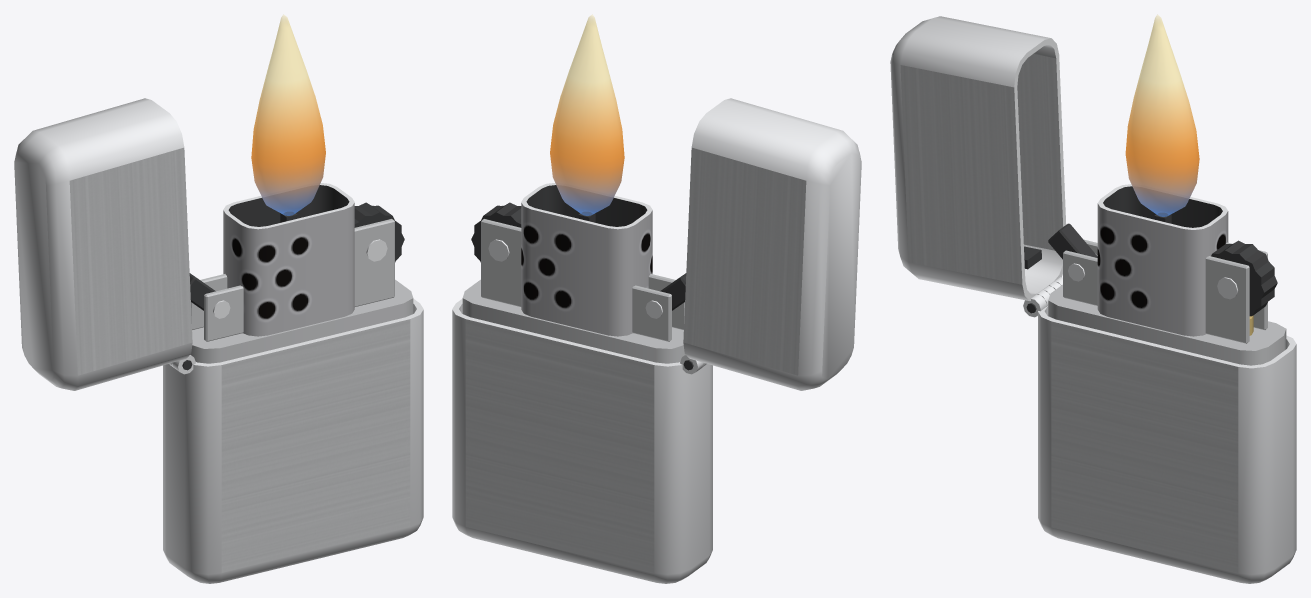
Rendered from encendedor_encendido.glb.
The picture shows the model from 3 angles, left to right: view 1: azimuth 30°, elevation 25°; view 2: azimuth 150°, elevation 25°; view 3: azimuth 330°, elevation 25°; orthographic projection.
Visible parts, largest first — view 1: Cuerpo_Inferior, Tapa_Superior, Inserto_Interior, Llama, Rueda_Chispero; view 2: Cuerpo_Inferior, Tapa_Superior, Inserto_Interior, Llama, Rueda_Chispero; view 3: Cuerpo_Inferior, Tapa_Superior, Inserto_Interior, Llama, Rueda_Chispero, Leva_Resorte.
Boxes of the visible parts, x1=… form: Cuerpo_Inferior: x1=163, y1=298, x2=423, y2=583; Tapa_Superior: x1=14, y1=98, x2=192, y2=390; Inserto_Interior: x1=190, y1=183, x2=413, y2=363; Llama: x1=251, y1=14, x2=325, y2=215; Rueda_Chispero: x1=354, y1=202, x2=404, y2=262; Cuerpo_Inferior: x1=452, y1=298, x2=712, y2=583; Tapa_Superior: x1=683, y1=98, x2=861, y2=390; Inserto_Interior: x1=462, y1=183, x2=685, y2=363; Llama: x1=550, y1=14, x2=624, y2=215; Rueda_Chispero: x1=471, y1=202, x2=521, y2=262; Cuerpo_Inferior: x1=1023, y1=277, x2=1296, y2=583; Tapa_Superior: x1=890, y1=16, x2=1066, y2=306; Inserto_Interior: x1=1048, y1=184, x2=1286, y2=365; Llama: x1=1125, y1=14, x2=1199, y2=216; Rueda_Chispero: x1=1211, y1=240, x2=1277, y2=316; Leva_Resorte: x1=1048, y1=223, x2=1097, y2=259.
Bounding box in the file's own units: 0.0617 × 0.0829 × 0.0127.
Materials: 6 (3 with a texture image).
